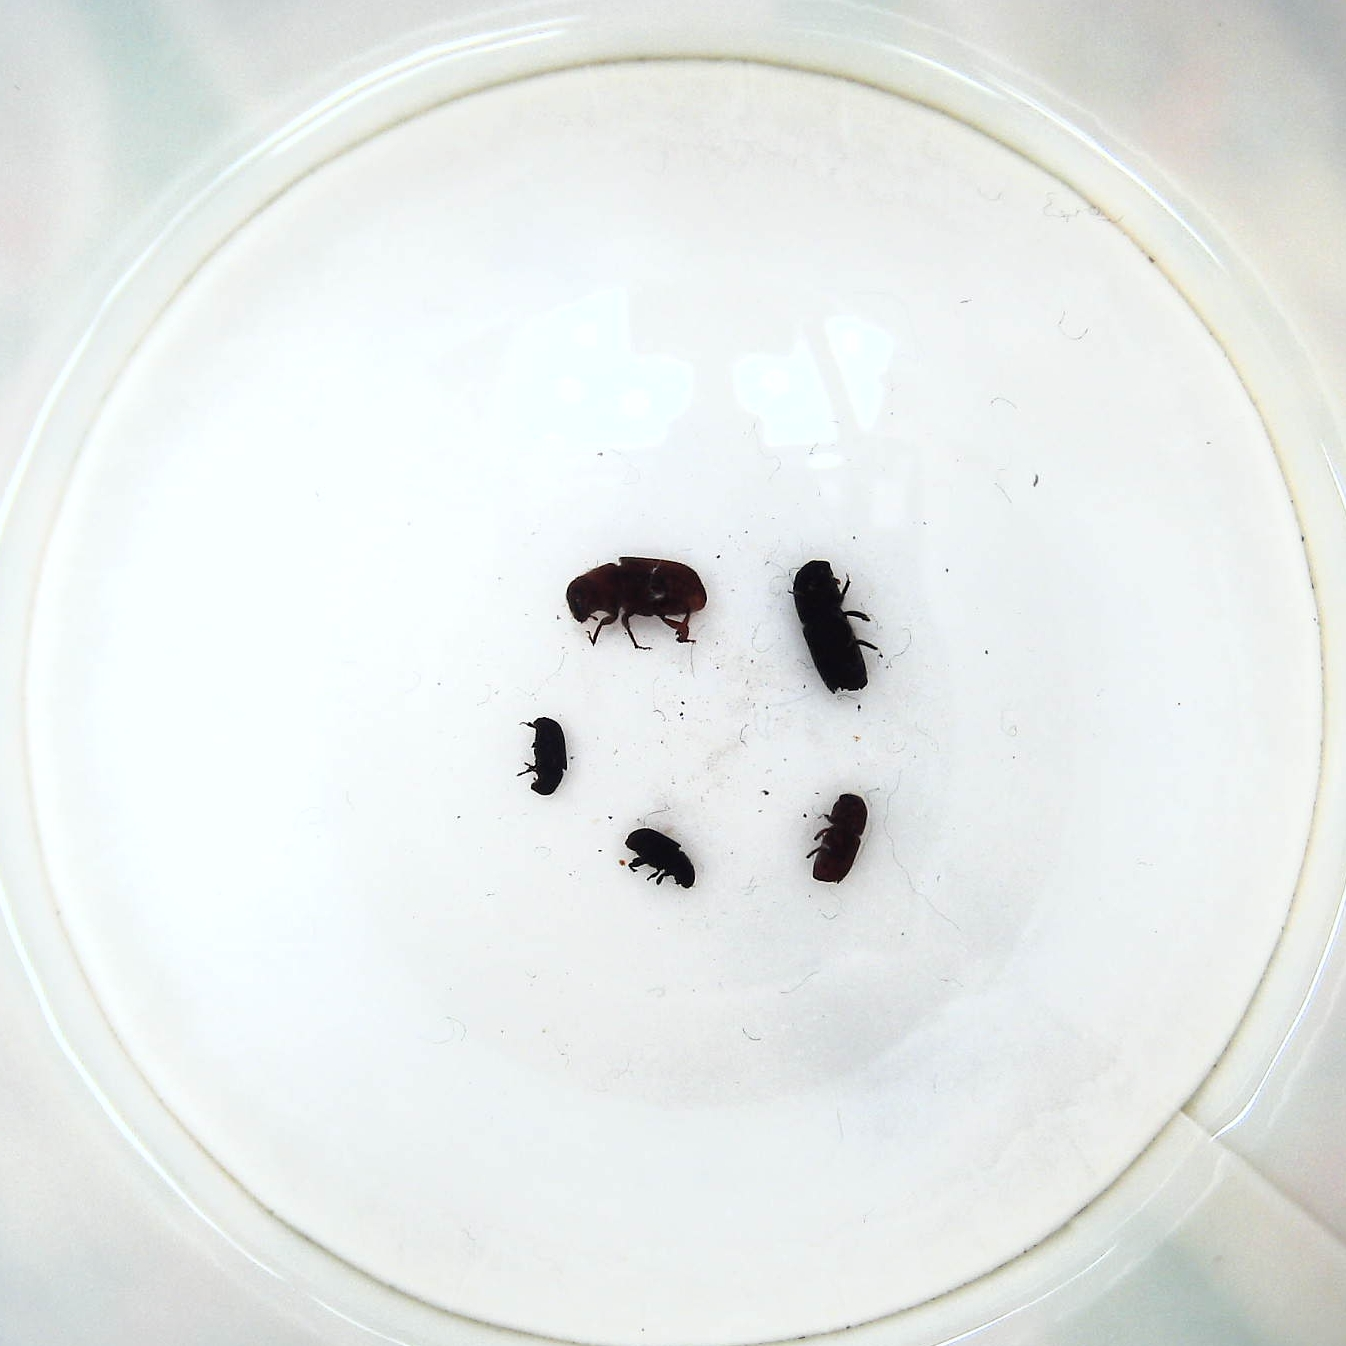Boerner: (784, 553, 886, 703)
Leconte: (557, 553, 712, 648)
armandi: (616, 822, 698, 902)
coleoptera: (519, 705, 574, 805)
linnaeus: (806, 786, 874, 890)
